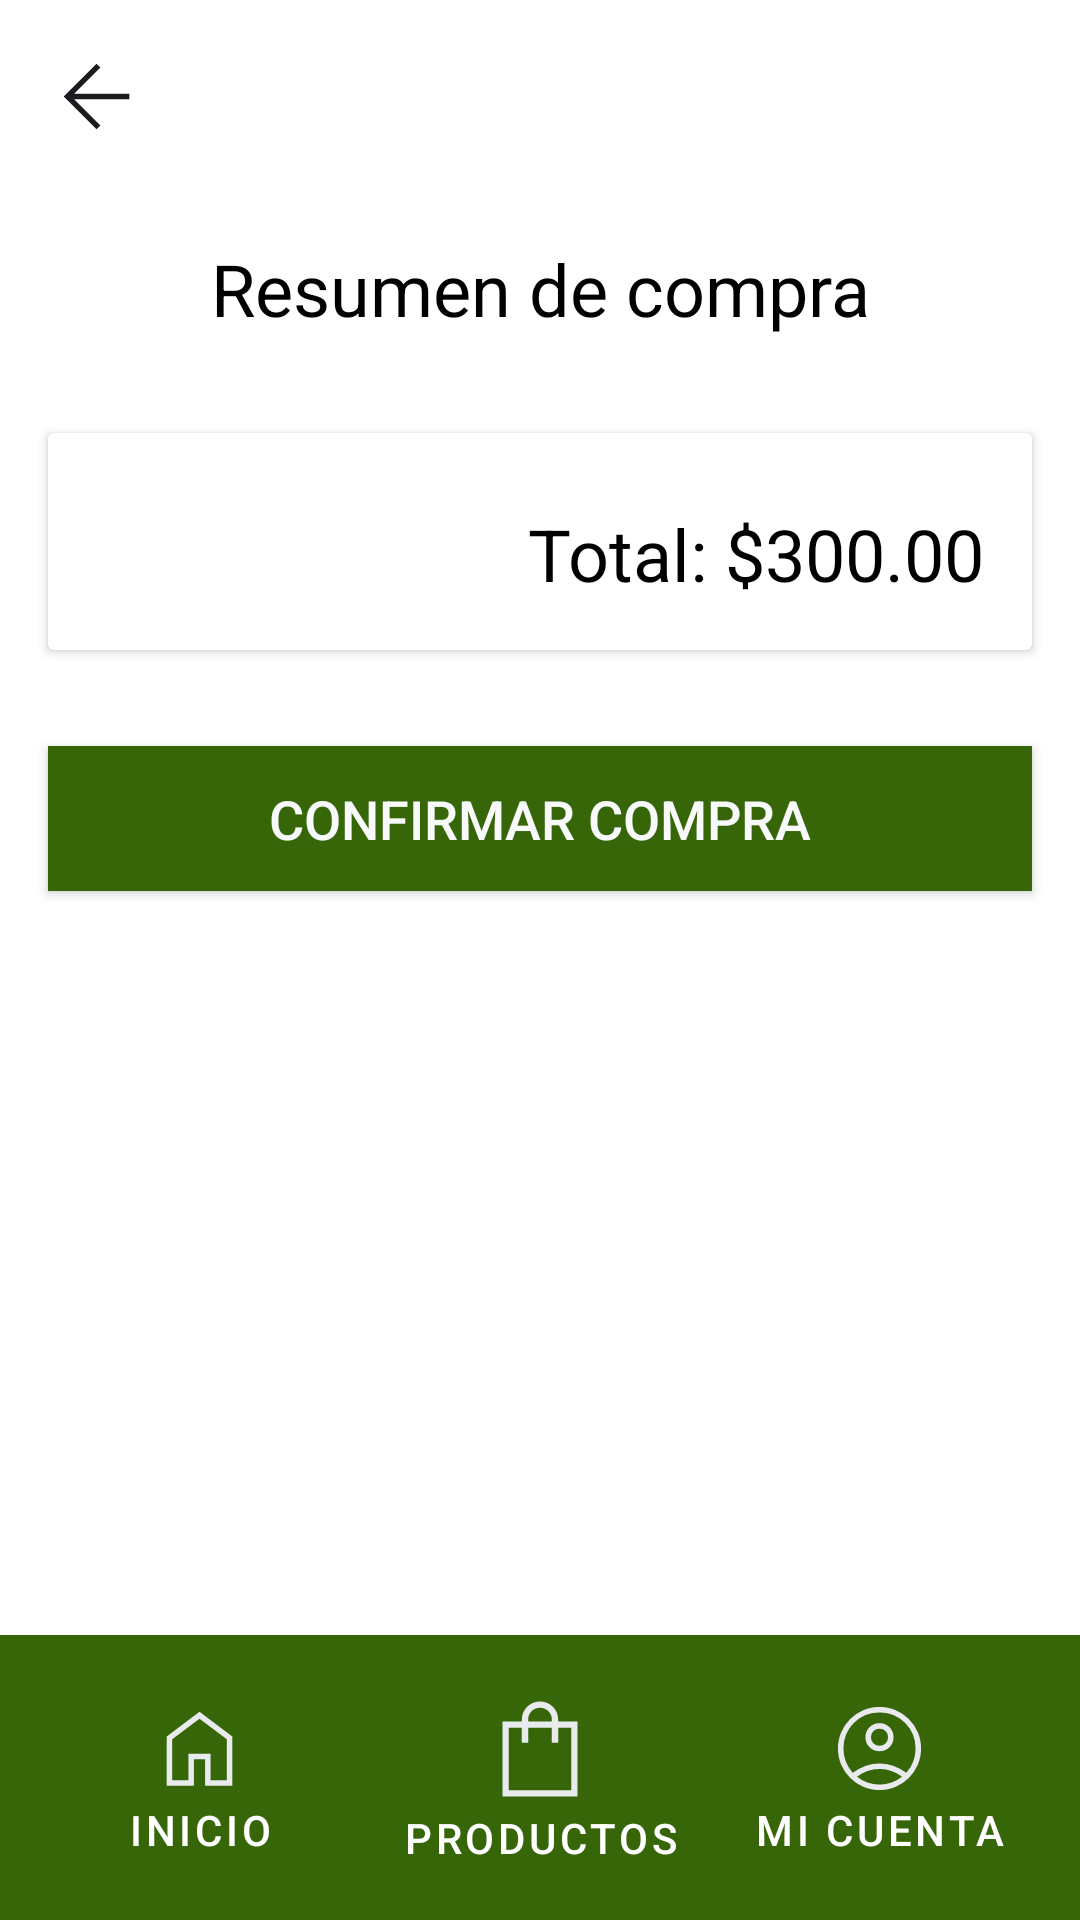

Point at icon controls on the screen. Image size 1080×1920, points as point (x, y).
Volver: point (97, 96)
